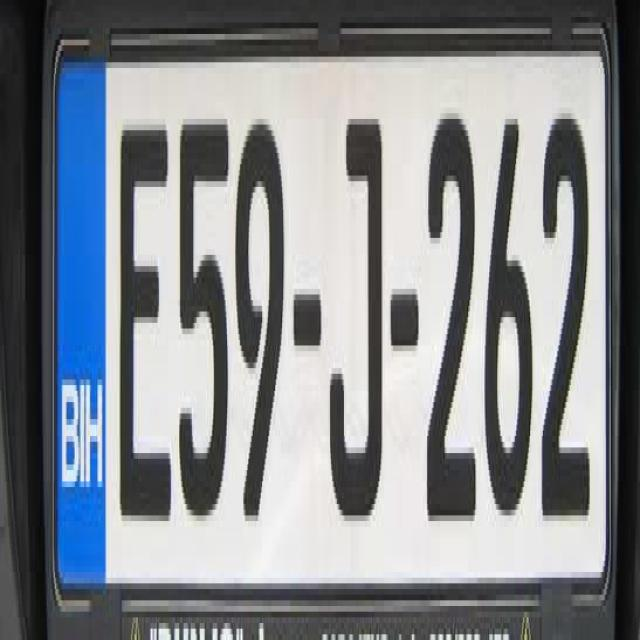Autre: (43, 18, 613, 629)
